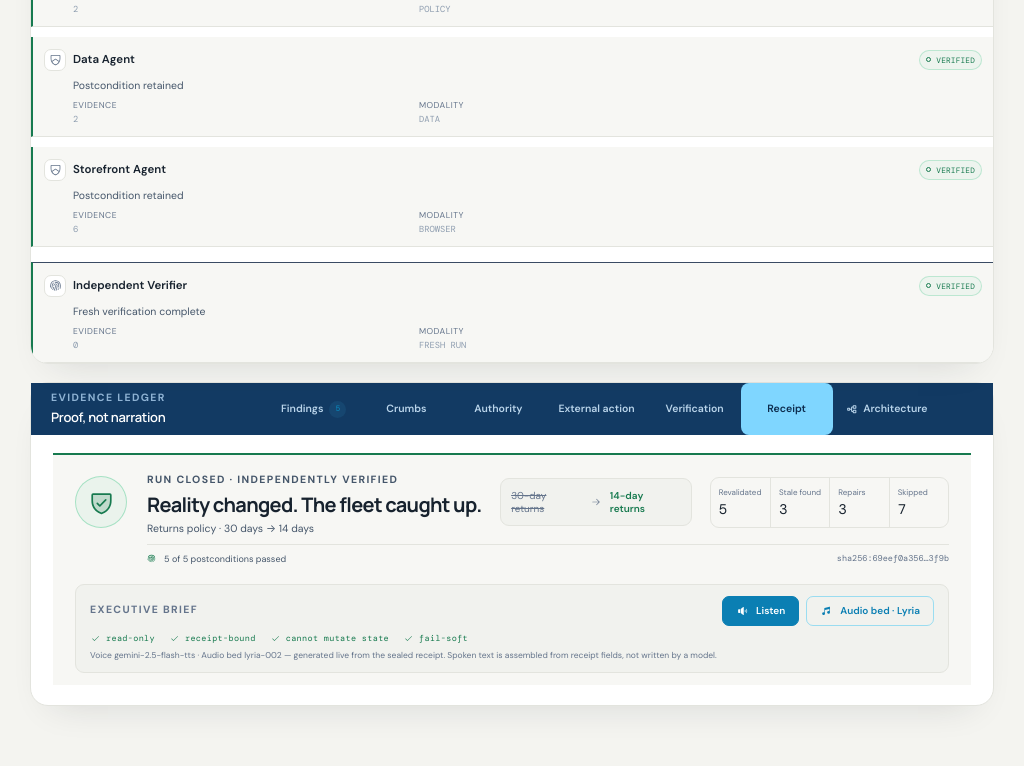
Scenario: ControlPlane critical projections › reports an unavailable derived output without disturbing the receipt
(page scrolled)
Click the button "Listen": {"x": 761, "y": 611} [722,596,799,626]
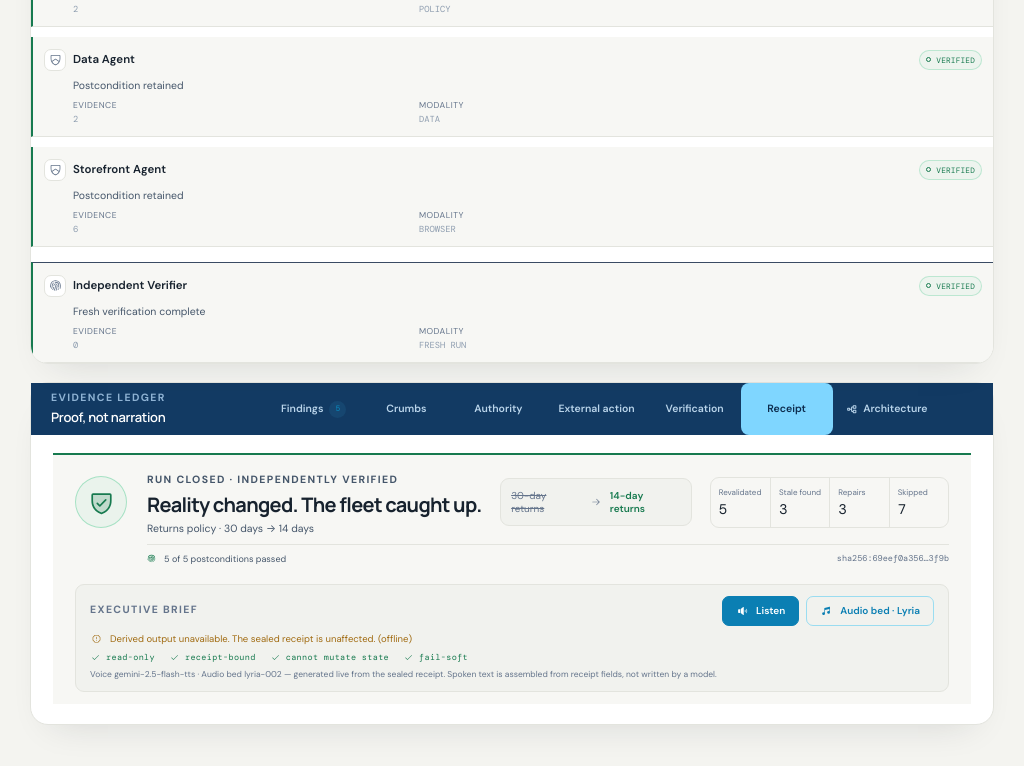
Check: the element with test id "receipt-panel" is shown, box [53,453,971,704]
Check: the text "Derived output unavailable" is shown, box [110,633,375,645]
